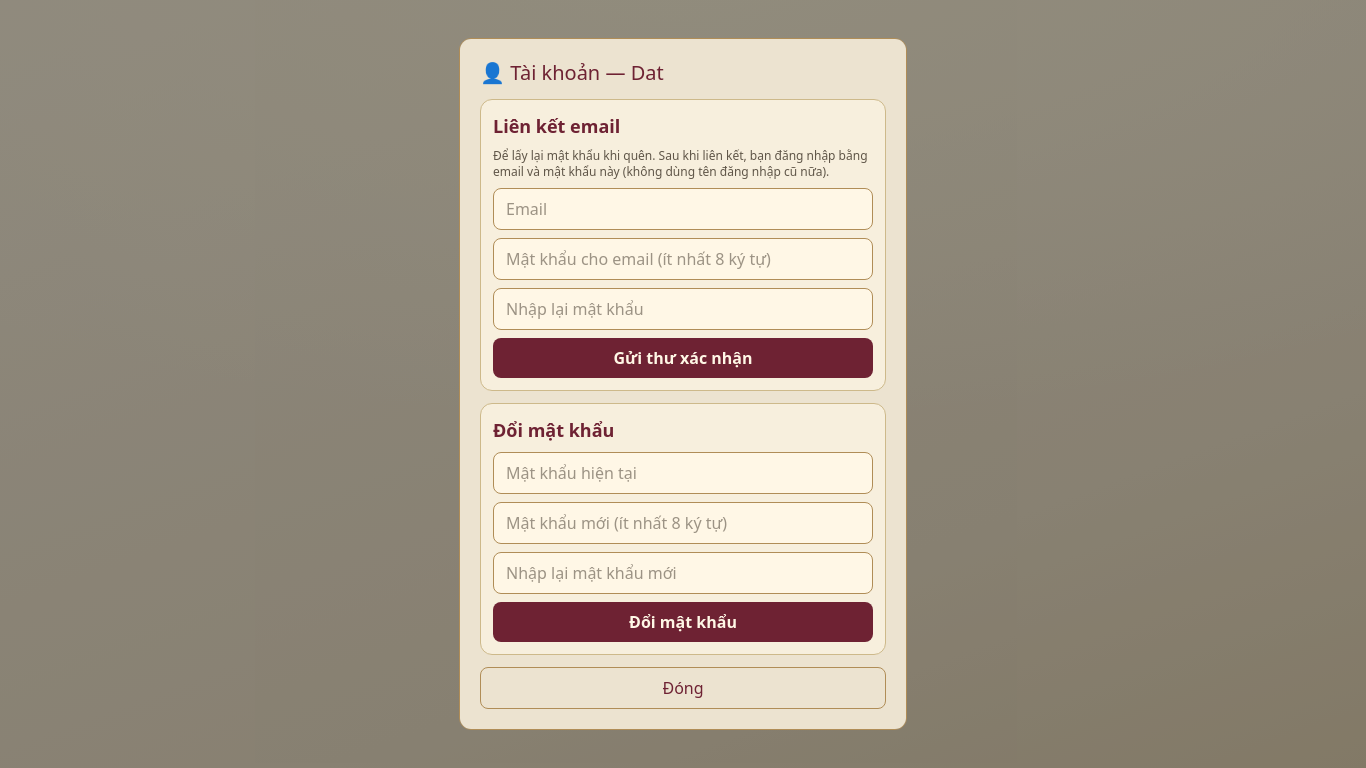
Test: Tài khoản and the banner › a legacy account links an email and changes its game password
The image size is (1366, 768).
Type "dat@mail.vn" into the field with placeholder "Email".
click(683, 209); type("dat@mail.vn")  # box x1=493 y1=188 x2=873 y2=230
Type "mat-khau-dai" into the password field with placeholder "Mật khẩu cho email (ít nhất 8 ký tự)".
click(683, 259); type("mat-khau-dai")  # box x1=493 y1=238 x2=873 y2=280
Type "mat-khau-dai" into the password field with placeholder "Nhập lại mật khẩu".
click(683, 309); type("mat-khau-dai")  # box x1=493 y1=288 x2=873 y2=330
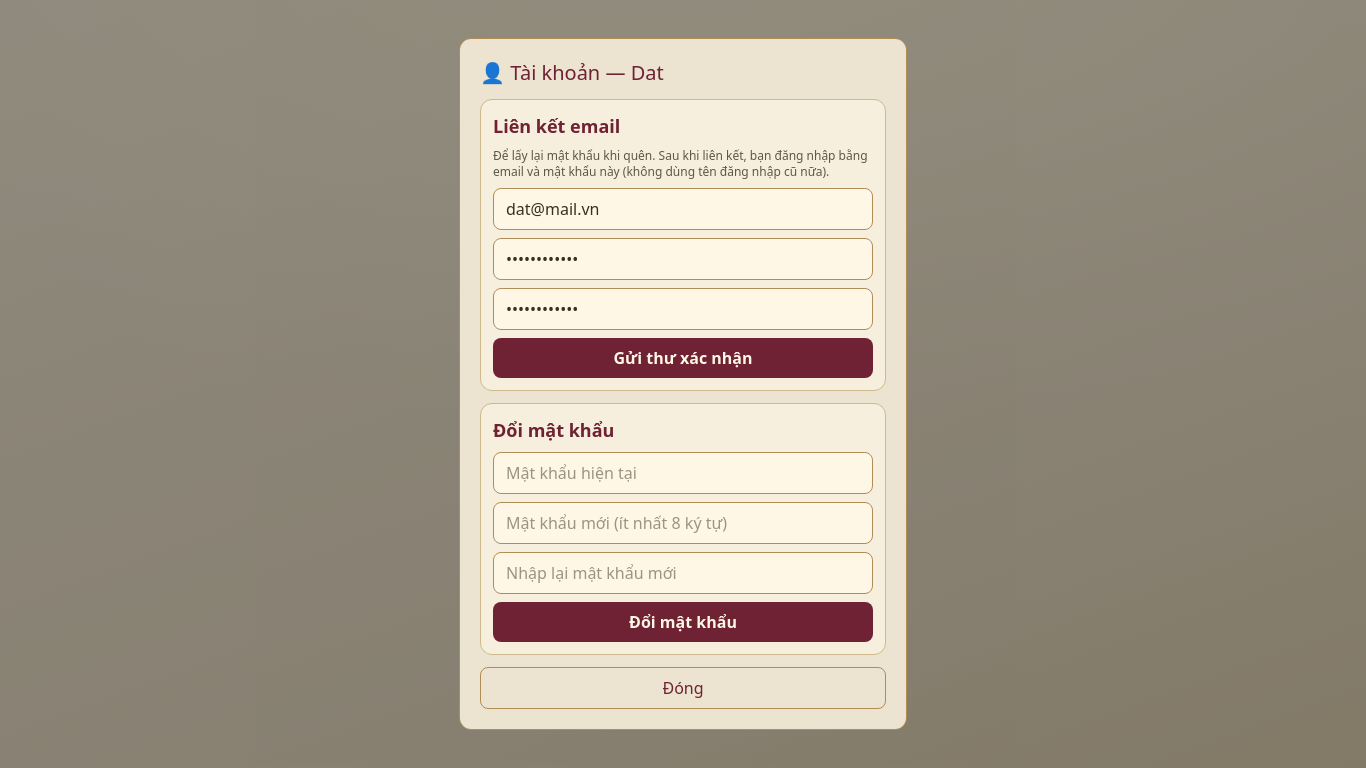
Submit the form with placeholder "email", box x1=480 y1=99 x2=886 y2=391
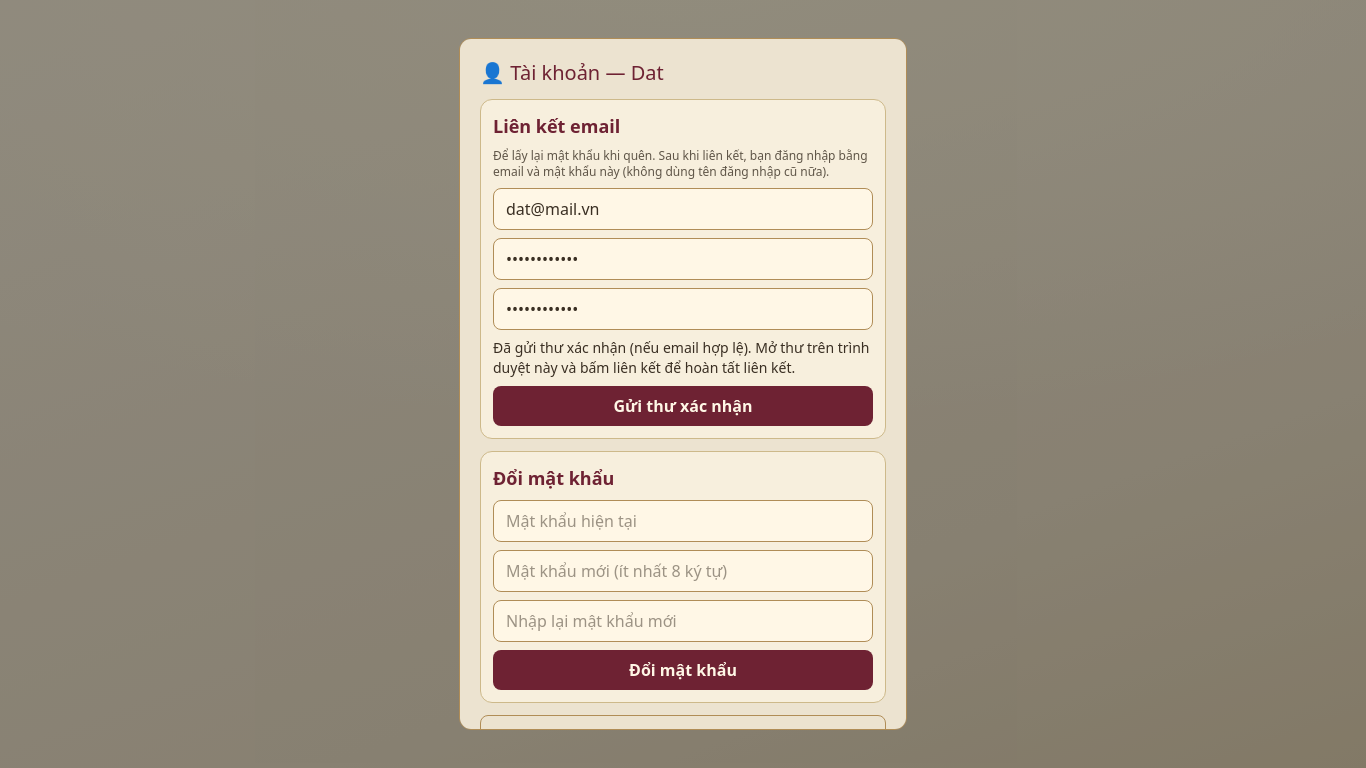
Expected: the text "Đã gửi thư xác nhận (nếu email hợp lệ). Mở thư trên trình duyệt này và bấm liên kết để hoàn tất liên kết." is shown, x1=493 y1=338 x2=870 y2=377
Type "cu" into the password field with placeholder "Mật khẩu hiện tại".
click(683, 521); type("cu")  # box x1=493 y1=500 x2=873 y2=542
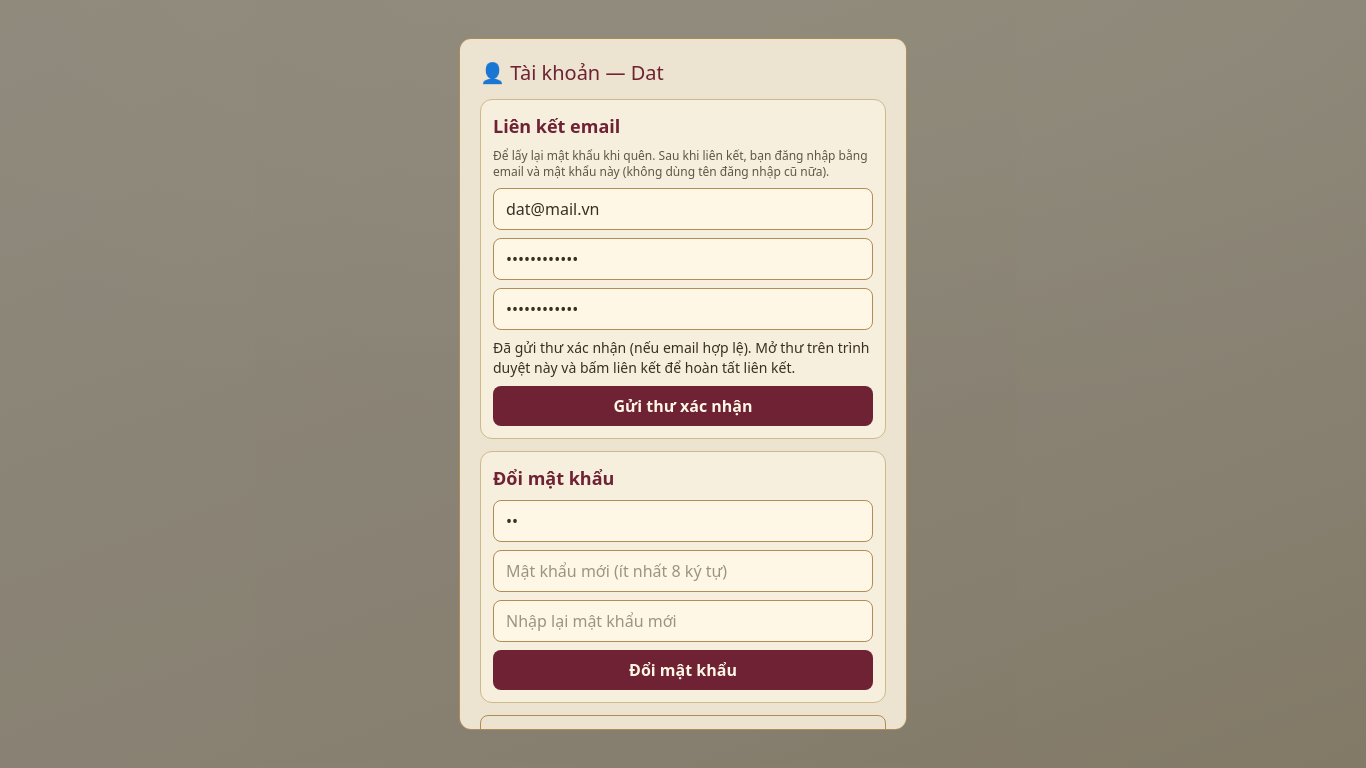
Type "mat-khau-moi" into the password field with placeholder "Mật khẩu mới (ít nhất 8 ký tự)".
click(683, 571); type("mat-khau-moi")  # box x1=493 y1=550 x2=873 y2=592
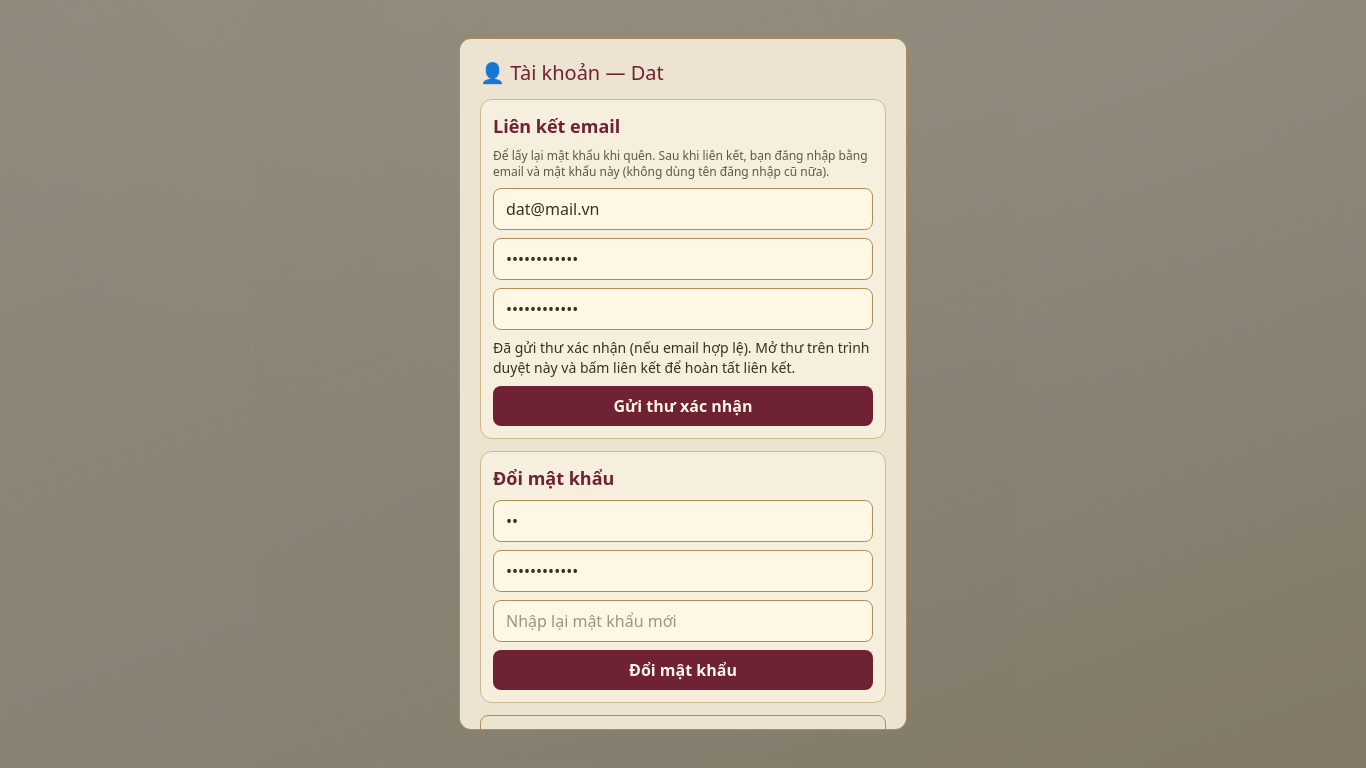
Type "mat-khau-moi" into the password field with placeholder "Nhập lại mật khẩu mới".
click(683, 621); type("mat-khau-moi")  # box x1=493 y1=600 x2=873 y2=642
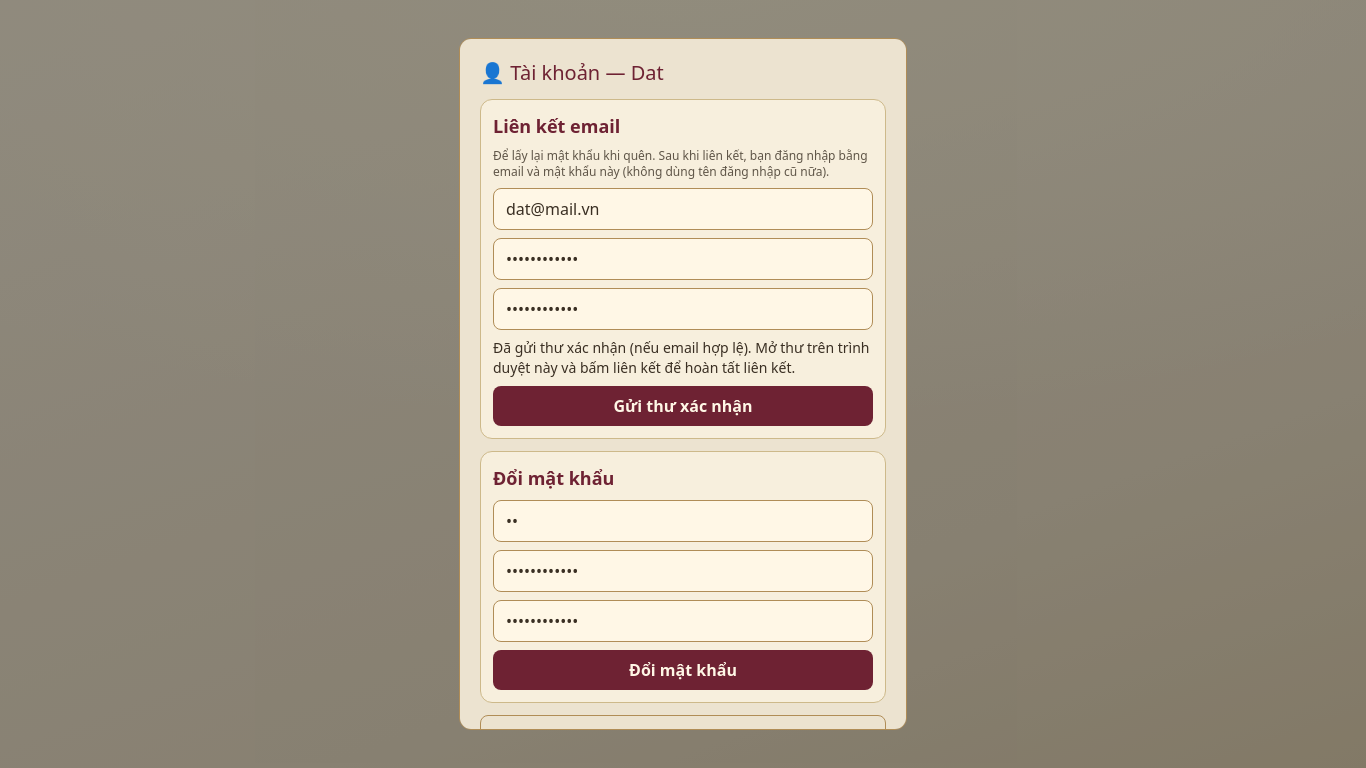
Submit the form with placeholder "Mật khẩu hiện tại", box x1=480 y1=451 x2=886 y2=703
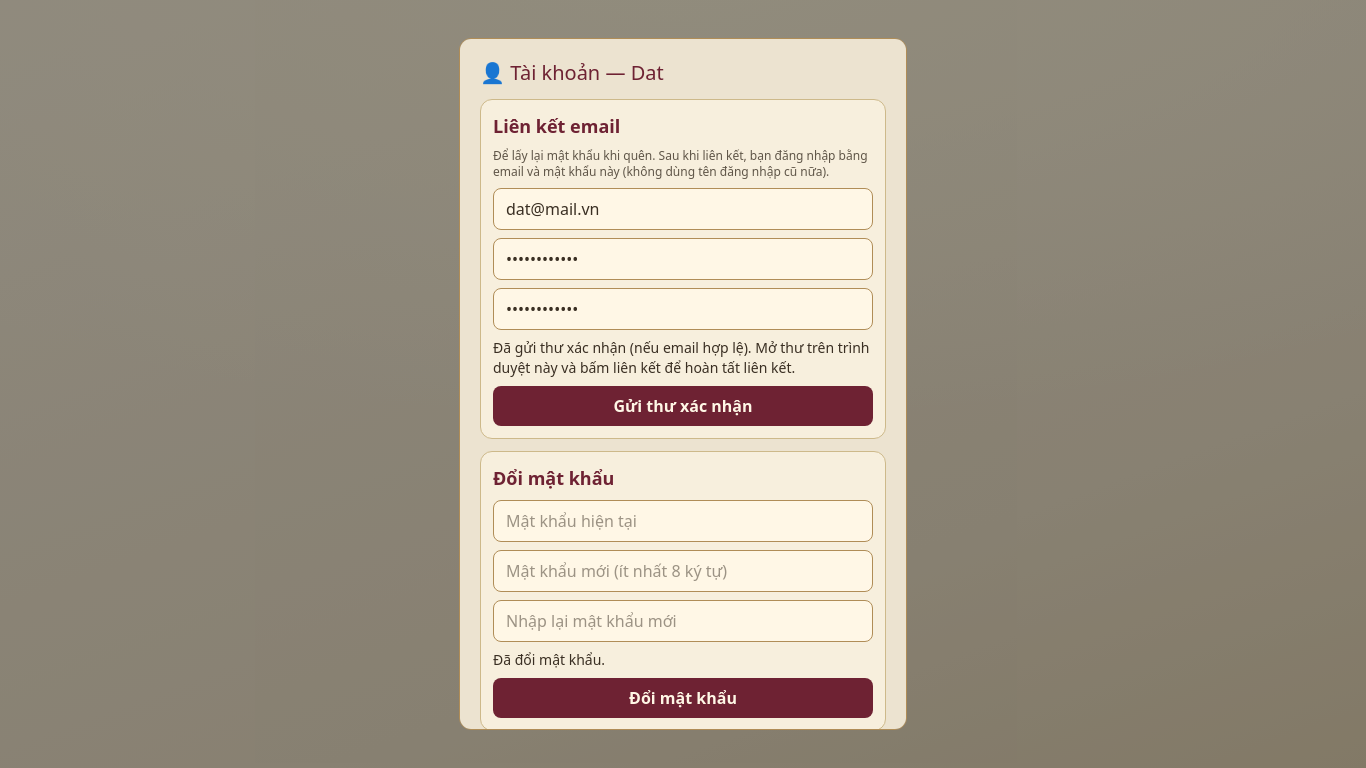
Expected: the text "Đã đổi mật khẩu." is shown, x1=493 y1=650 x2=605 y2=669
